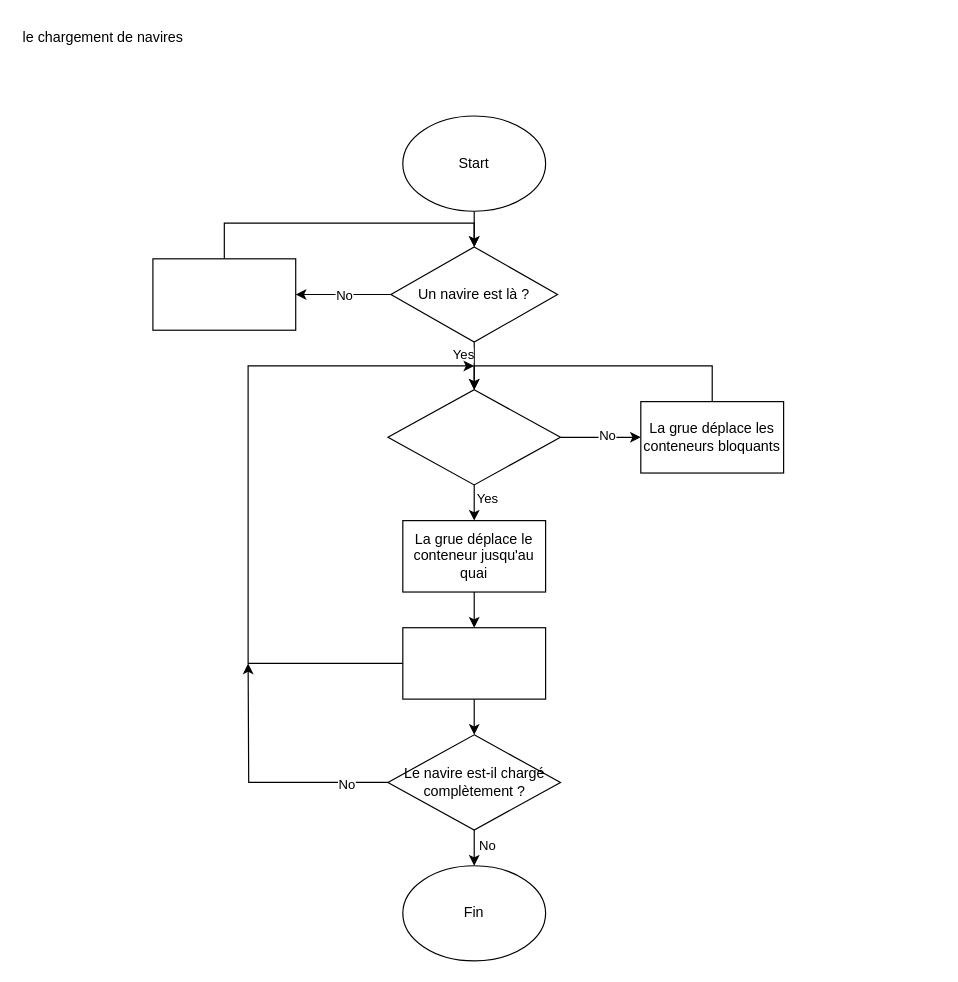
This 958x982 diagram has some shape labels left out. The shapes that lost their labels are listed below. From the top down, each one's centre as x and y in pixels, then its label:
At pixel 224 294: "Les conteneurs restent stockés dans le yard".
At pixel 473 437: "Le conteneur souhaité est-il accessible ?".
At pixel 474 663: "La grue de quai charge le navire avec le conteneur".
